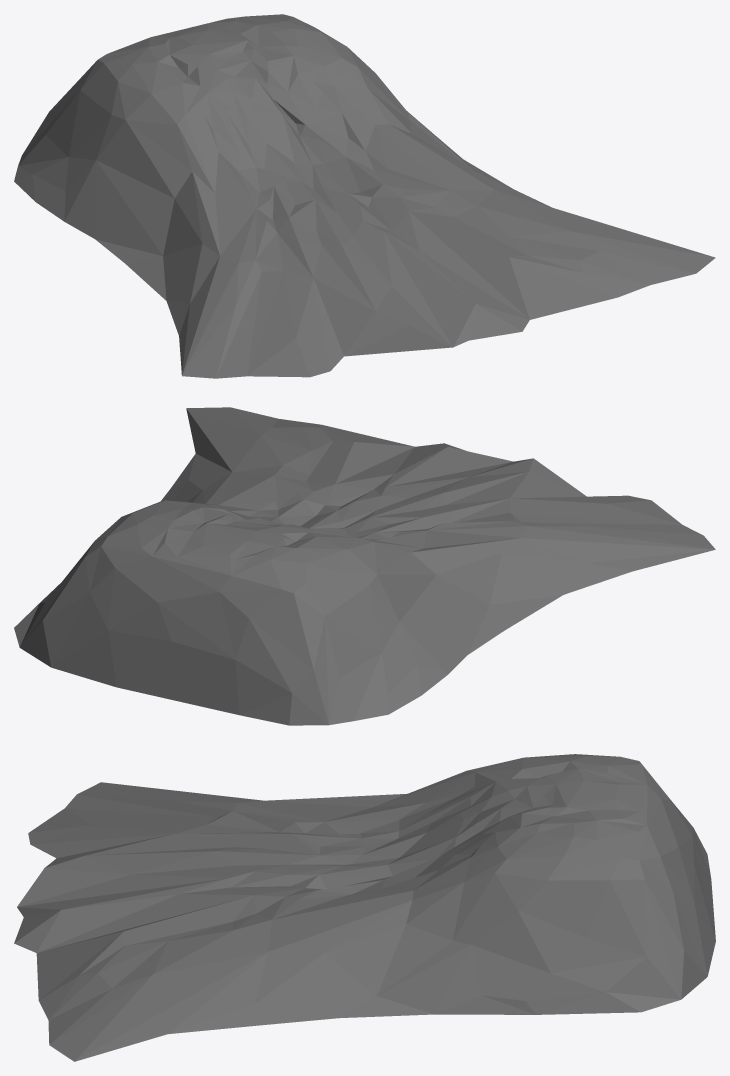
Rendered from SM_Gen_Env_Ground_Slope_Dirt_02.glb.
The picture shows the model from 3 angles, top to bottom: view 1: azimuth 30°, elevation 25°; view 2: azimuth 150°, elevation 25°; view 3: azimuth 270°, elevation 25°; orthographic projection. The views are drawn at different scales.
Visible parts, largest first — view 1: SM_Gen_Env_Ground_Slope_Dirt_02; view 2: SM_Gen_Env_Ground_Slope_Dirt_02; view 3: SM_Gen_Env_Ground_Slope_Dirt_02.
Boxes of the visible parts, <box> form: SM_Gen_Env_Ground_Slope_Dirt_02: <box>14,14,715,378</box>; SM_Gen_Env_Ground_Slope_Dirt_02: <box>14,407,715,725</box>; SM_Gen_Env_Ground_Slope_Dirt_02: <box>14,754,715,1061</box>.
Bounding box in the file's own units: 23.52 × 4.93 × 24.95.
Materials: 1 (1 with a texture image).
